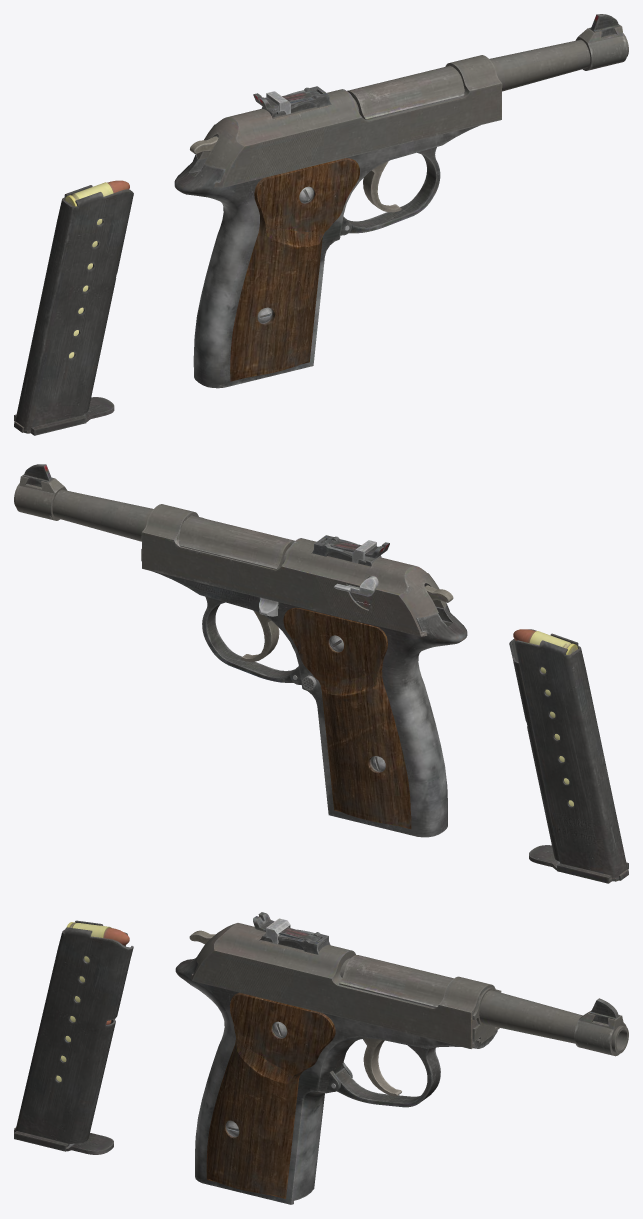
File: gun-pistol.glb
3 renders of one model, top to bottom at view 1: azimuth 30°, elevation 25°; view 2: azimuth 150°, elevation 25°; view 3: azimuth 330°, elevation 25°, orthographic.
Visible parts, largest first — view 1: pistol_a, magazine_loaded, slide_a, trigger_a; view 2: pistol_a, magazine_loaded, slide_a, trigger_a; view 3: pistol_a, magazine_loaded, slide_a, trigger_a.
Part boxes in pixels (box(x1,y1,x2,y2)): pistol_a: box(174, 14, 628, 388); magazine_loaded: box(14, 180, 133, 435); slide_a: box(197, 55, 502, 187); trigger_a: box(363, 161, 401, 212); pistol_a: box(14, 464, 467, 837); magazine_loaded: box(509, 629, 628, 883); slide_a: box(141, 504, 450, 636); trigger_a: box(240, 611, 279, 661); pistol_a: box(175, 955, 628, 1204); magazine_loaded: box(14, 920, 133, 1154); slide_a: box(190, 912, 501, 1048); trigger_a: box(363, 1038, 401, 1096).
Bounding box in the file's own units: 0.3016 × 0.1307 × 0.0318.
1 material, 1 textured.
